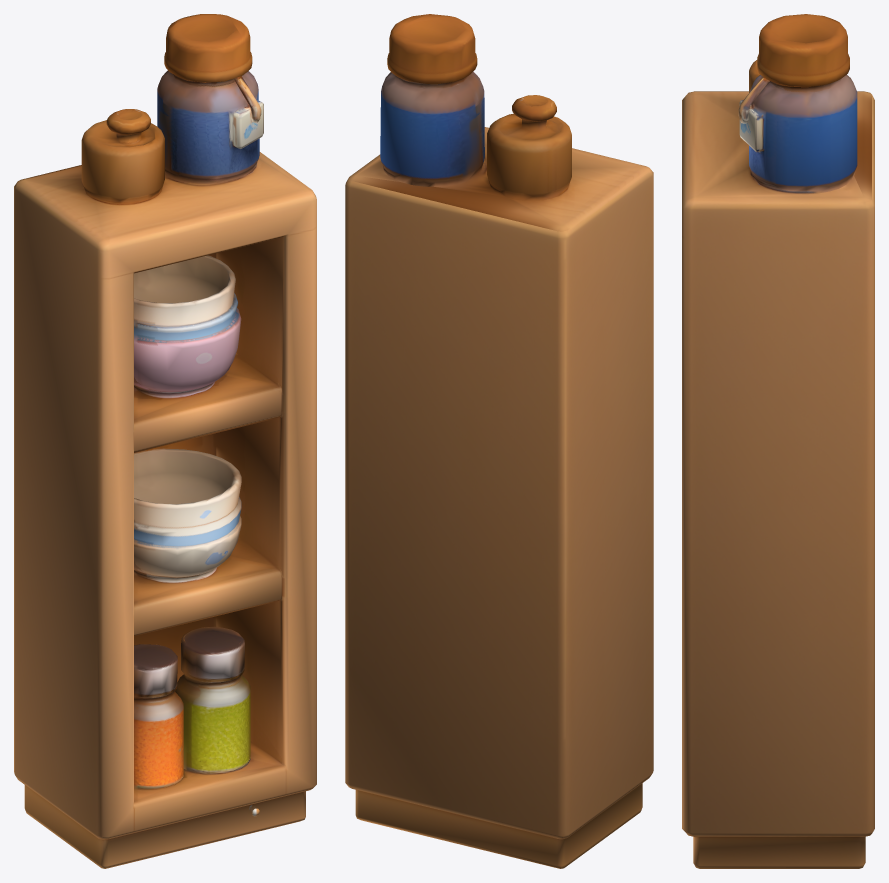
Rendered from open-cubby.glb.
3 renders of one model, left to right at view 1: azimuth 30°, elevation 25°; view 2: azimuth 150°, elevation 25°; view 3: azimuth 270°, elevation 25°, orthographic. The views are drawn at different scales.
Visible parts, largest first — view 1: open_cubby_mesh; view 2: open_cubby_mesh; view 3: open_cubby_mesh.
Part boxes in pixels (<box>): open_cubby_mesh: <box>14,14,316,868</box>; open_cubby_mesh: <box>345,14,653,868</box>; open_cubby_mesh: <box>682,14,874,868</box>.
Bounding box in the file's own units: 0.22 × 0.7374 × 0.1578.
Materials: 1 (1 with a texture image).
